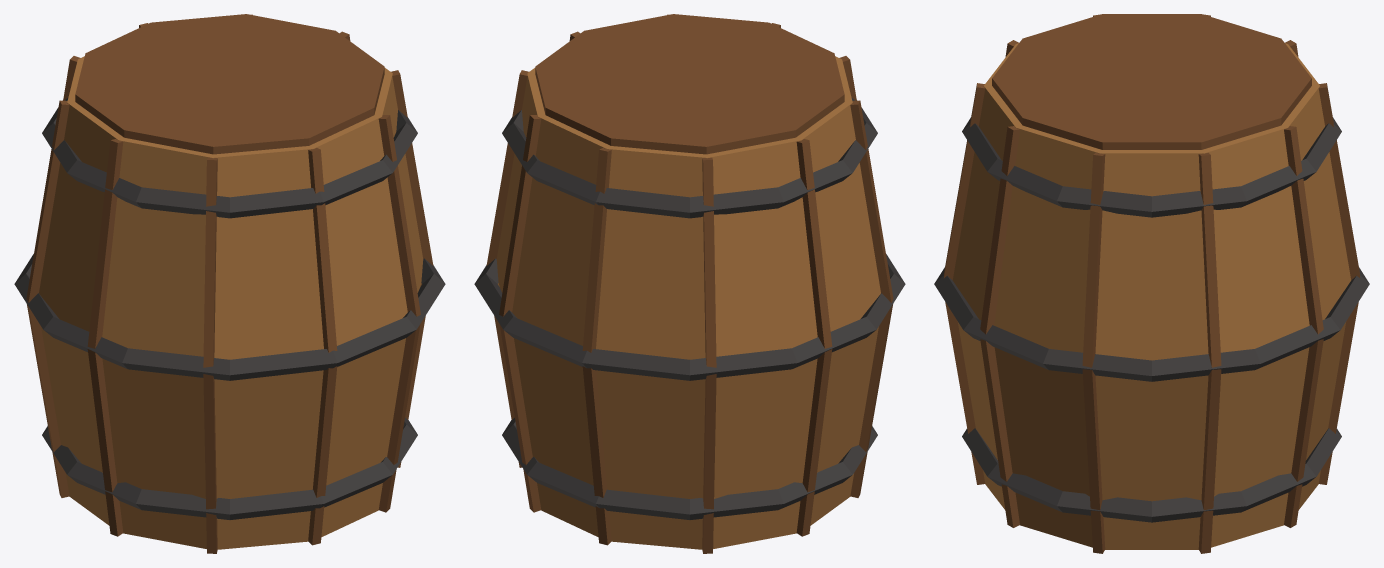
The model's file is barrel.glb.
3 renders of one model, left to right at view 1: azimuth 30°, elevation 25°; view 2: azimuth 150°, elevation 25°; view 3: azimuth 270°, elevation 25°, orthographic.
Visible parts, largest first — view 1: barrel; view 2: barrel; view 3: barrel.
Boxes of the visible parts, <box> form: barrel: <box>14,14,445,553</box>; barrel: <box>474,14,905,553</box>; barrel: <box>934,14,1369,553</box>.
Size of the model in its own units: 0.518 by 0.5309 by 0.518.
